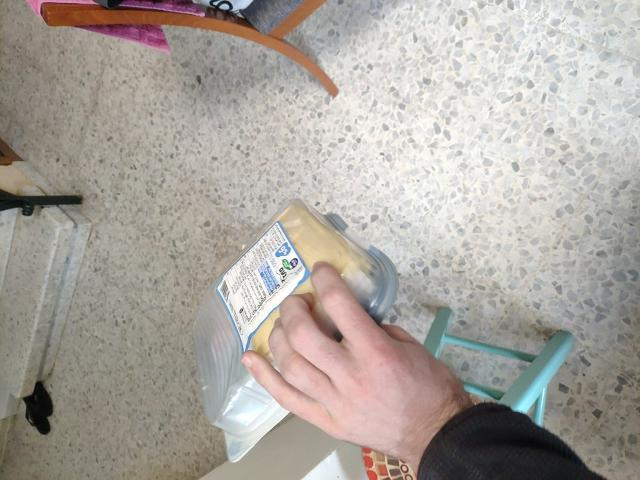cheese: (209, 208, 351, 467)
